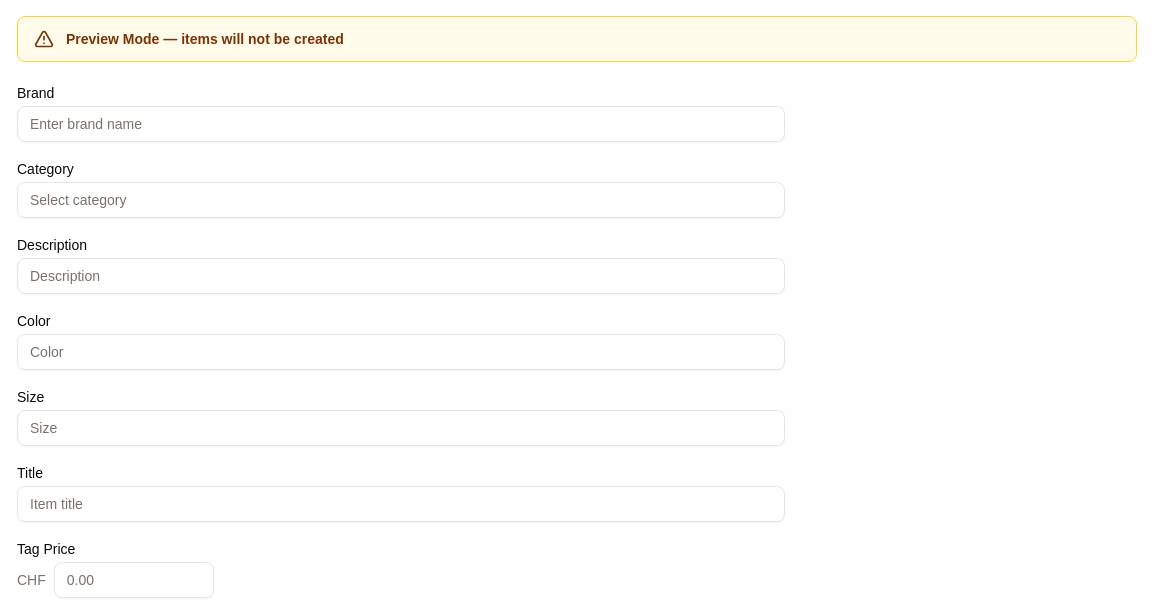
Test: ItemCapturePage › populates tag price when Use Suggestion is clicked
The width and height of the screenshot is (1154, 615).
// Type category name to trigger dropdown
In the dropdown labelled "category": (401, 200) [17,182,785,218], type "Shoes"
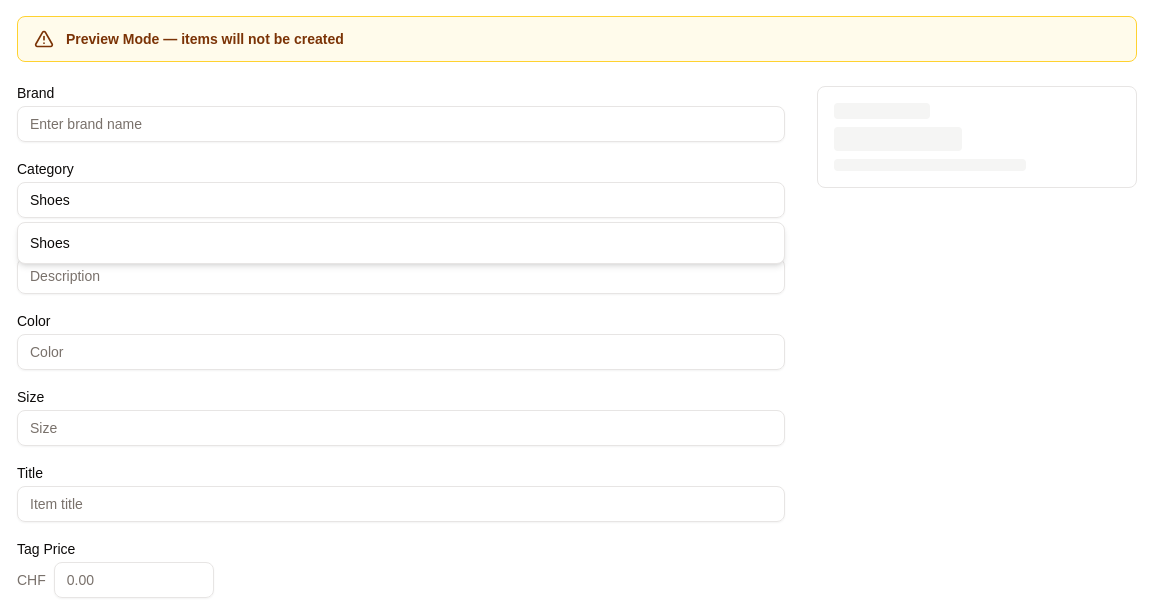
// Select "Shoes" from the dropdown (fires onSelect → onChange with UUID)
Press the mouse on the option "Shoes": (50, 243) [30,235,70,251]
Wait 350 ms
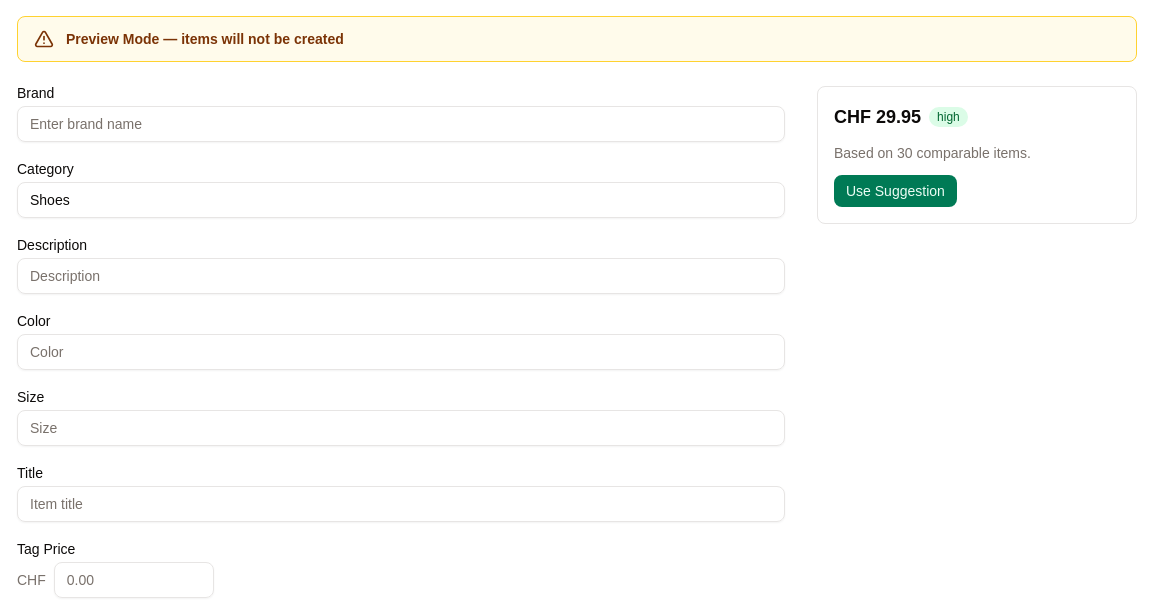
Check: the button "Use Suggestion" is shown
Click the button "Use Suggestion": (895, 191) [834,175,957,207]
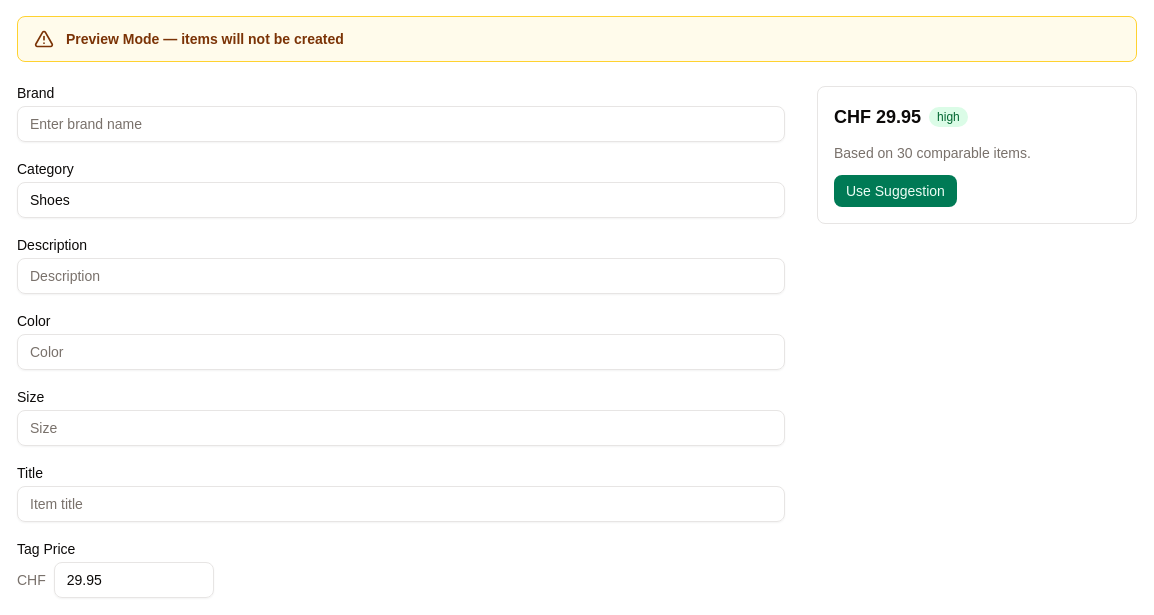
Check: the field named "Tag price in CHF" holds "29.95", box [54,562,214,598]
